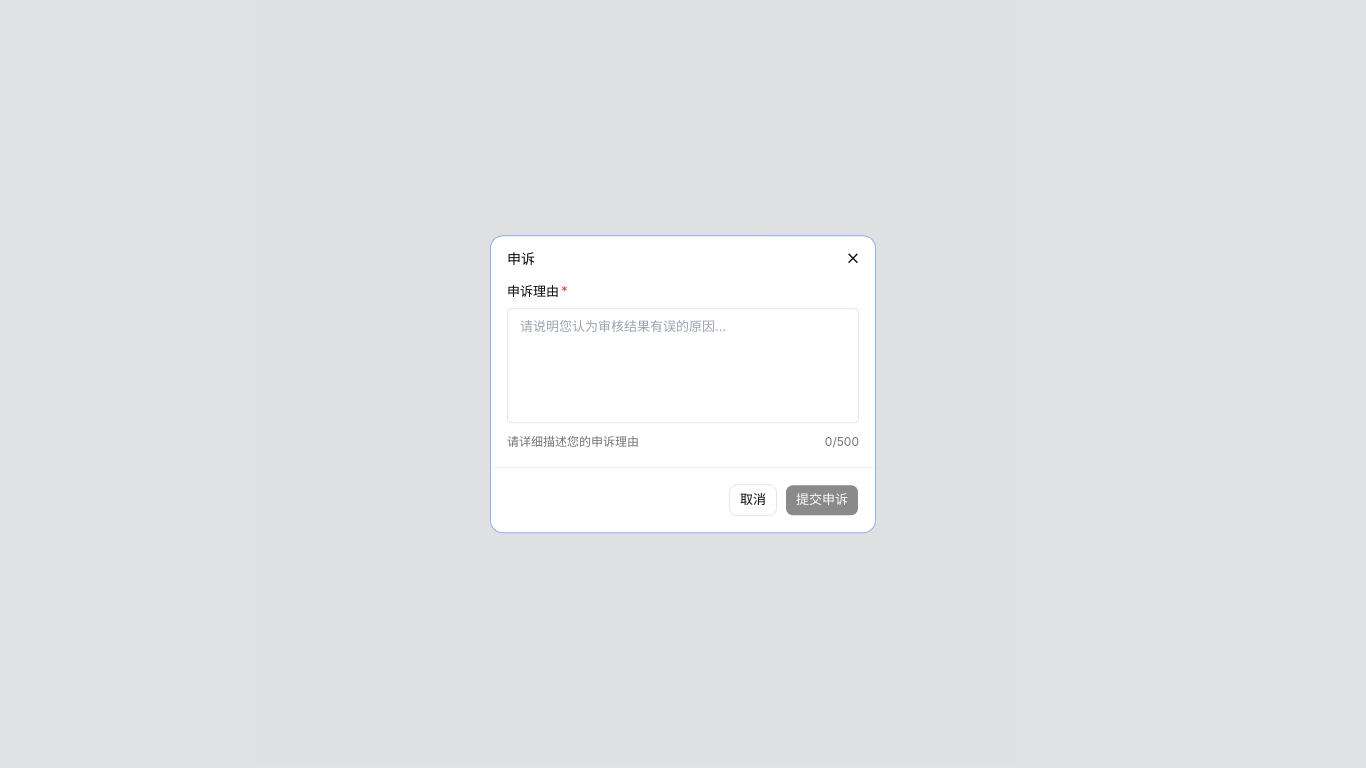
Test: AppealDialog › shows loading state on submit button
The image size is (1366, 768).
Type "Valid reason." into the text box with placeholder "请说明您认为审核结果有误的原因..." at (683, 366), box [507,308,859,423]
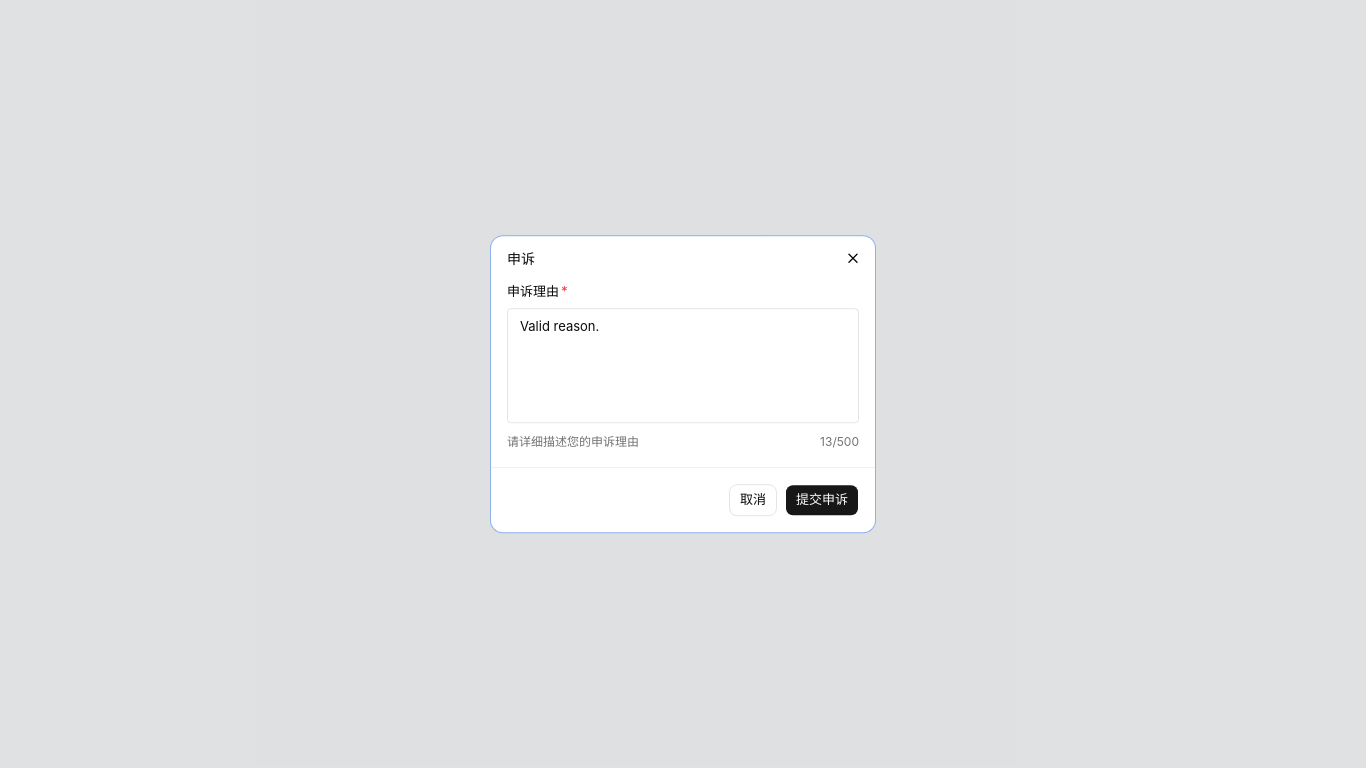
Check: the button "提交申诉" is enabled
Click the button "提交申诉" at (822, 500), box [785,484,859,516]
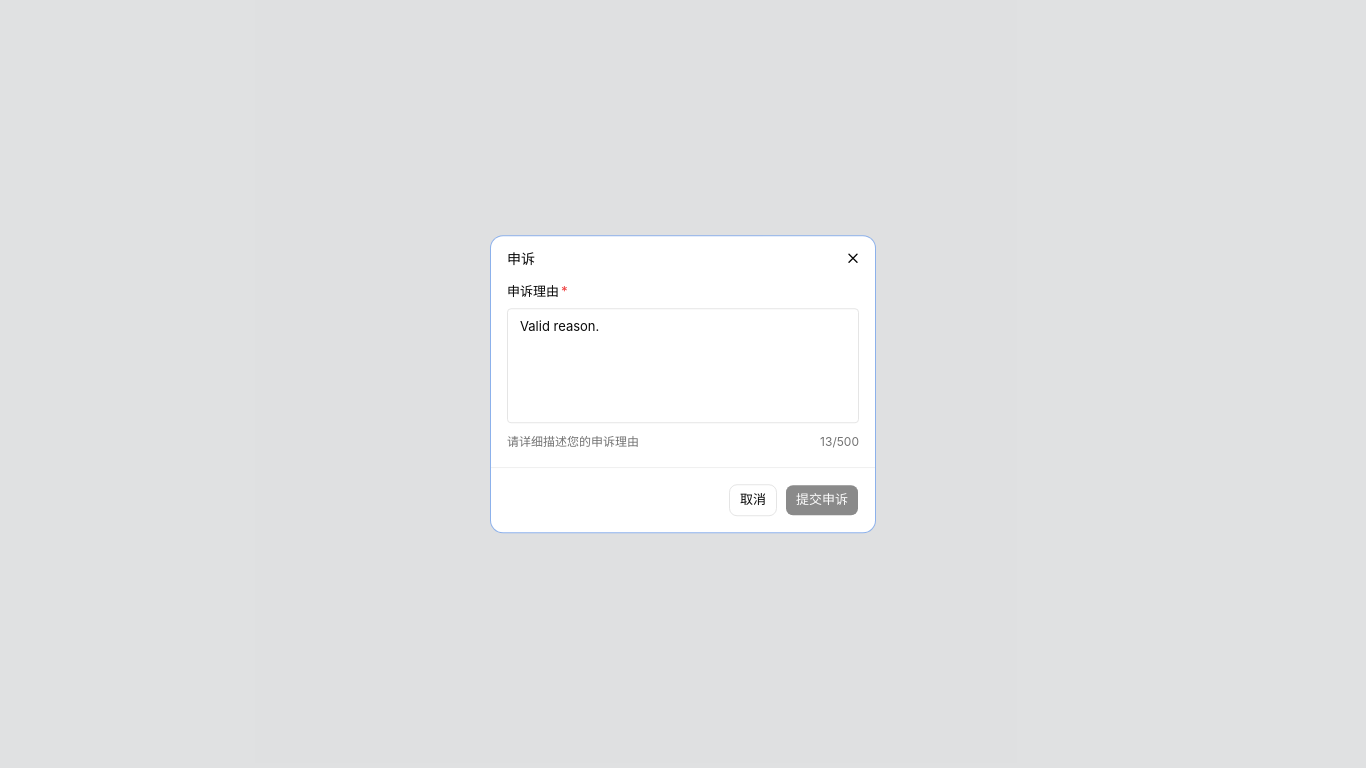
Check: the button "提交申诉" is disabled, box [785,484,859,516]
